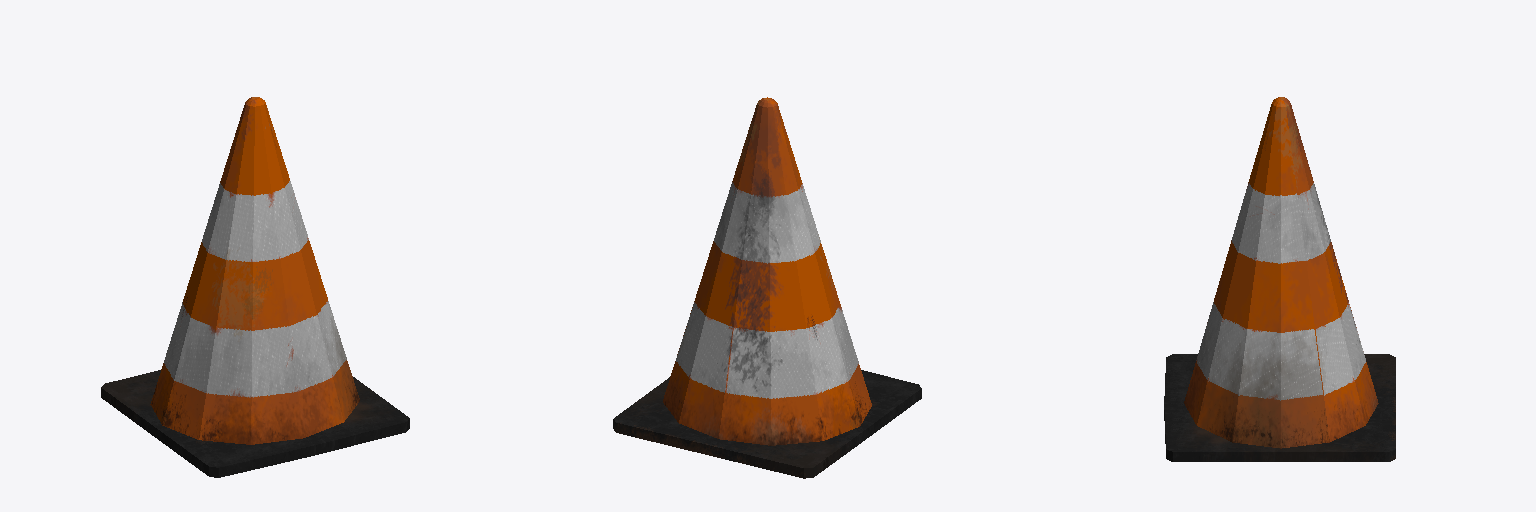
3 views of the same model, side by side, from view 1: azimuth 30°, elevation 25°; view 2: azimuth 150°, elevation 25°; view 3: azimuth 270°, elevation 25° (orthographic).
Visible parts, largest first — view 1: Cone; view 2: Cone; view 3: Cone.
Part boxes in pixels (x1,y1,x2,y2): Cone: (101, 97, 409, 477); Cone: (613, 97, 921, 478); Cone: (1164, 97, 1395, 461).
Bounding box in the file's own units: 0.6046 × 0.9068 × 0.6046.
1 materials, 1 textured.